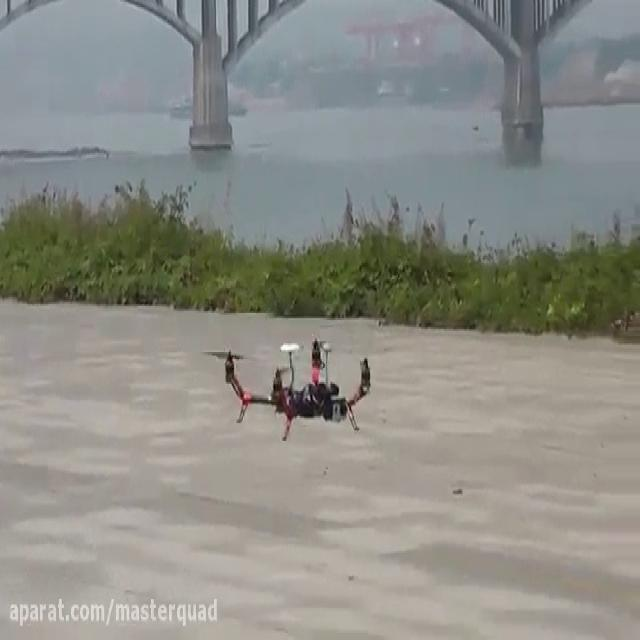drone: (194, 330, 374, 442)
